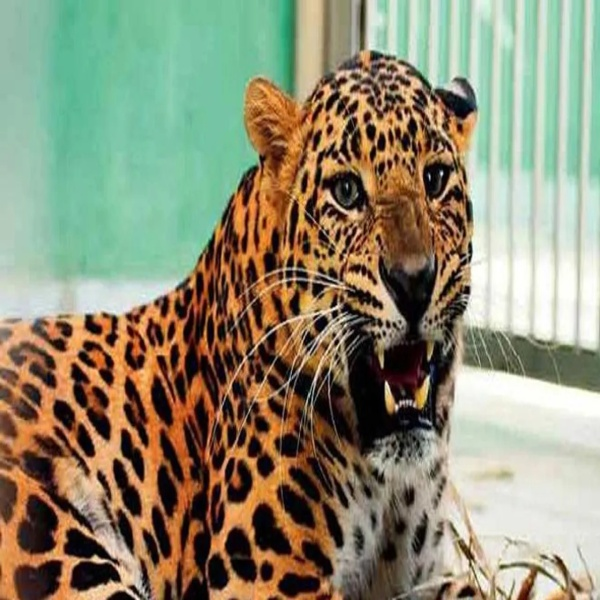Leopard: (1, 49, 487, 598)
